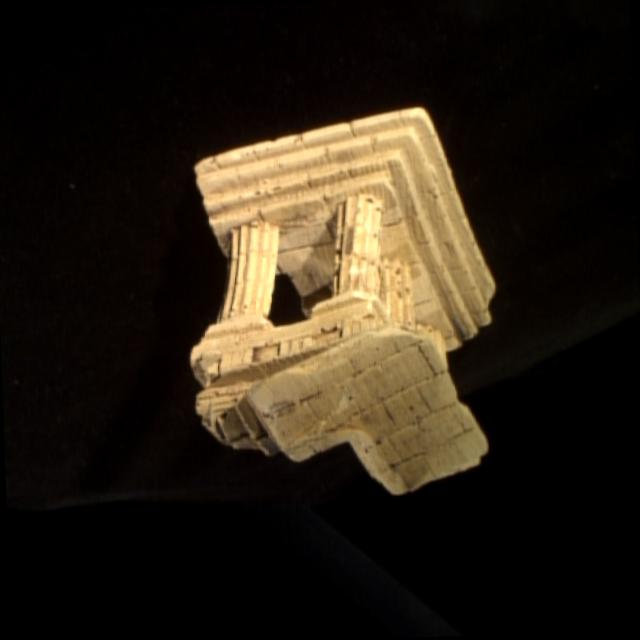Instance-Segmentation: (192, 107, 495, 492)
